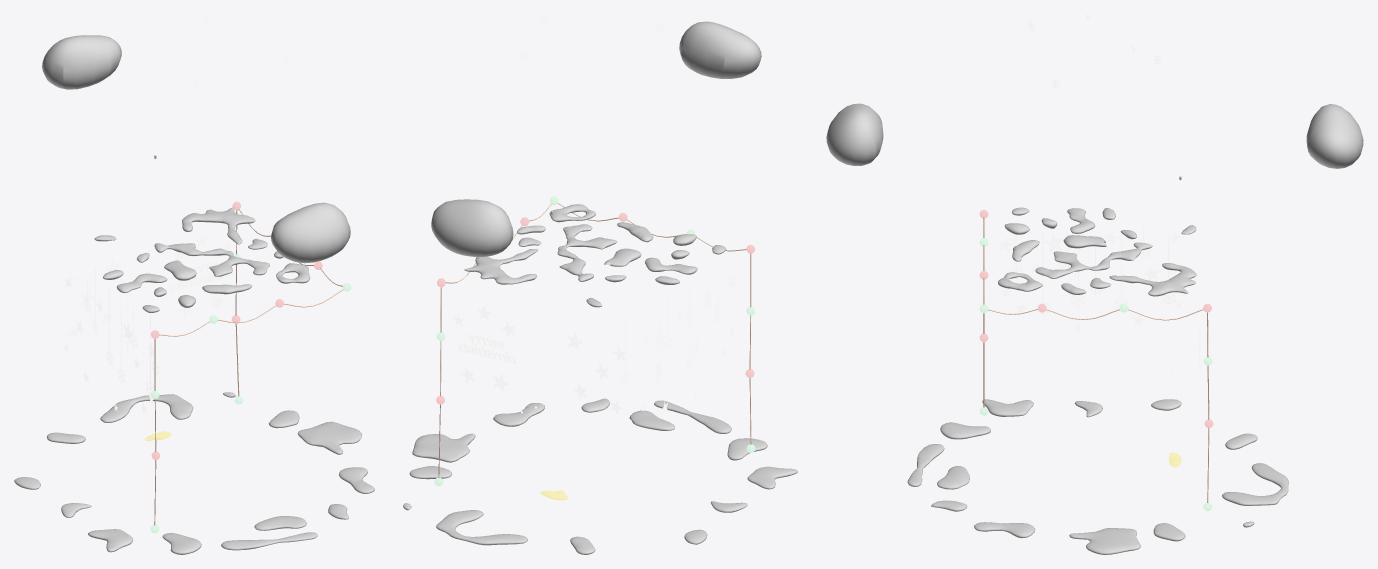
The picture shows the model from 3 angles, left to right: view 1: azimuth 30°, elevation 25°; view 2: azimuth 150°, elevation 25°; view 3: azimuth 270°, elevation 25°; orthographic projection. The views are drawn at different scales.
Visible parts, largest first — view 1: SnowBall.002, SnowBall.001, Sphere.001, Sphere.002; view 2: SnowBall.002, SnowBall.001, Sphere.002, Sphere.001; view 3: SnowBall.002, SnowBall.001, Sphere.002, Sphere.001.
Part boxes in pixels (bbox=[...]): SnowBall.002: bbox=[14, 392, 374, 554]; SnowBall.001: bbox=[94, 207, 310, 312]; Sphere.001: bbox=[271, 202, 350, 263]; Sphere.002: bbox=[42, 35, 121, 89]; SnowBall.002: bbox=[403, 398, 797, 554]; SnowBall.001: bbox=[464, 204, 726, 307]; Sphere.002: bbox=[431, 199, 513, 256]; Sphere.001: bbox=[679, 21, 761, 78]; SnowBall.002: bbox=[907, 399, 1288, 554]; SnowBall.001: bbox=[998, 207, 1196, 296]; Sphere.002: bbox=[1306, 104, 1363, 168]; Sphere.001: bbox=[826, 103, 883, 165].
Bounding box in the file's own units: 6.89 × 9.15 × 10.15.
